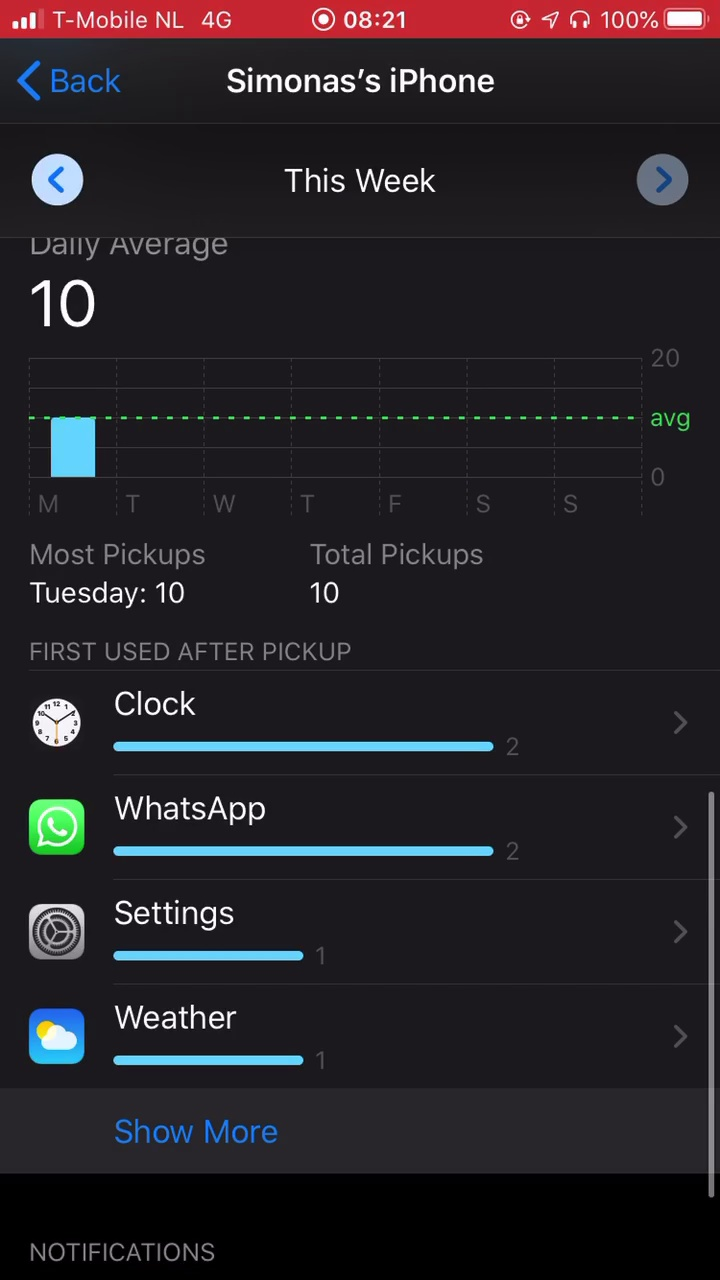pick_app: (14, 689, 521, 771), (18, 788, 518, 869), (25, 886, 331, 980), (23, 992, 328, 1078)
pick_over: (14, 533, 539, 624)
week: (254, 156, 448, 211)
